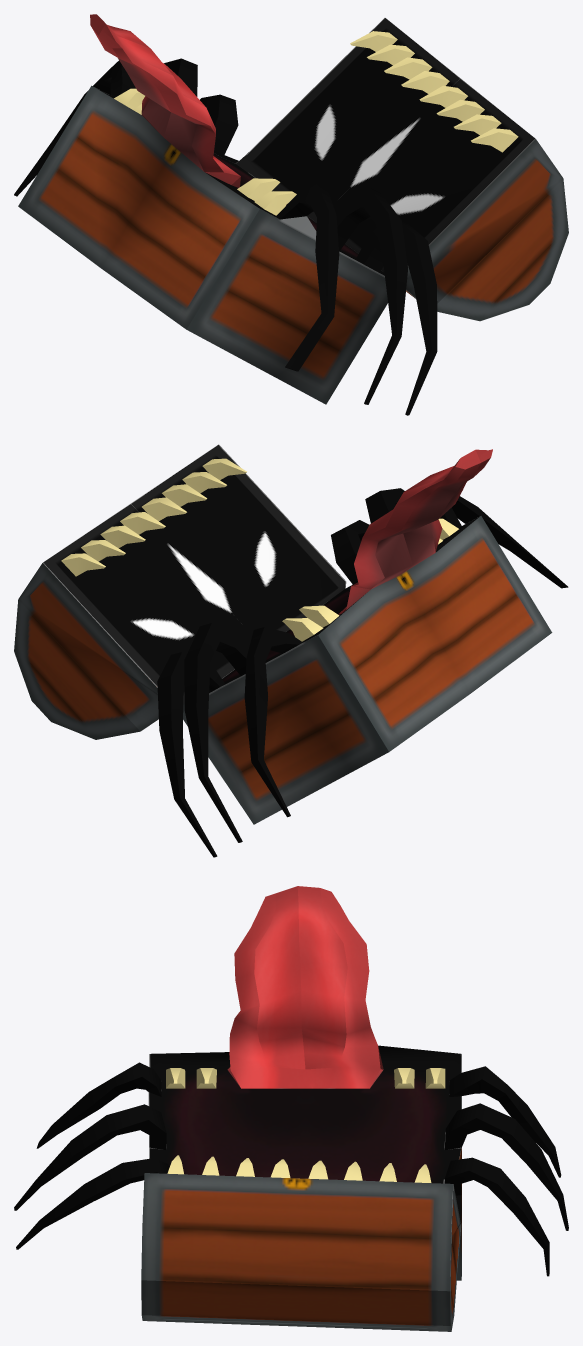
The model's file is cofrearana_000009.obj.
The picture shows the model from 3 angles, top to bottom: view 1: azimuth 30°, elevation 25°; view 2: azimuth 150°, elevation 25°; view 3: azimuth 270°, elevation 25°; orthographic projection. The views are drawn at different scales.
Parts seen in each view (by area): view 1: cofreArana:Mesh; view 2: cofreArana:Mesh; view 3: cofreArana:Mesh.
Part boxes in pixels (left/top/right/bottom): cofreArana:Mesh: left=14, top=14, right=568, bottom=415; cofreArana:Mesh: left=14, top=444, right=568, bottom=857; cofreArana:Mesh: left=14, top=886, right=568, bottom=1331.
Size of the model in its own units: 8.71 by 7.41 by 11.25.
